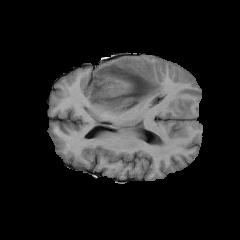glioma: (87, 57, 164, 111)
